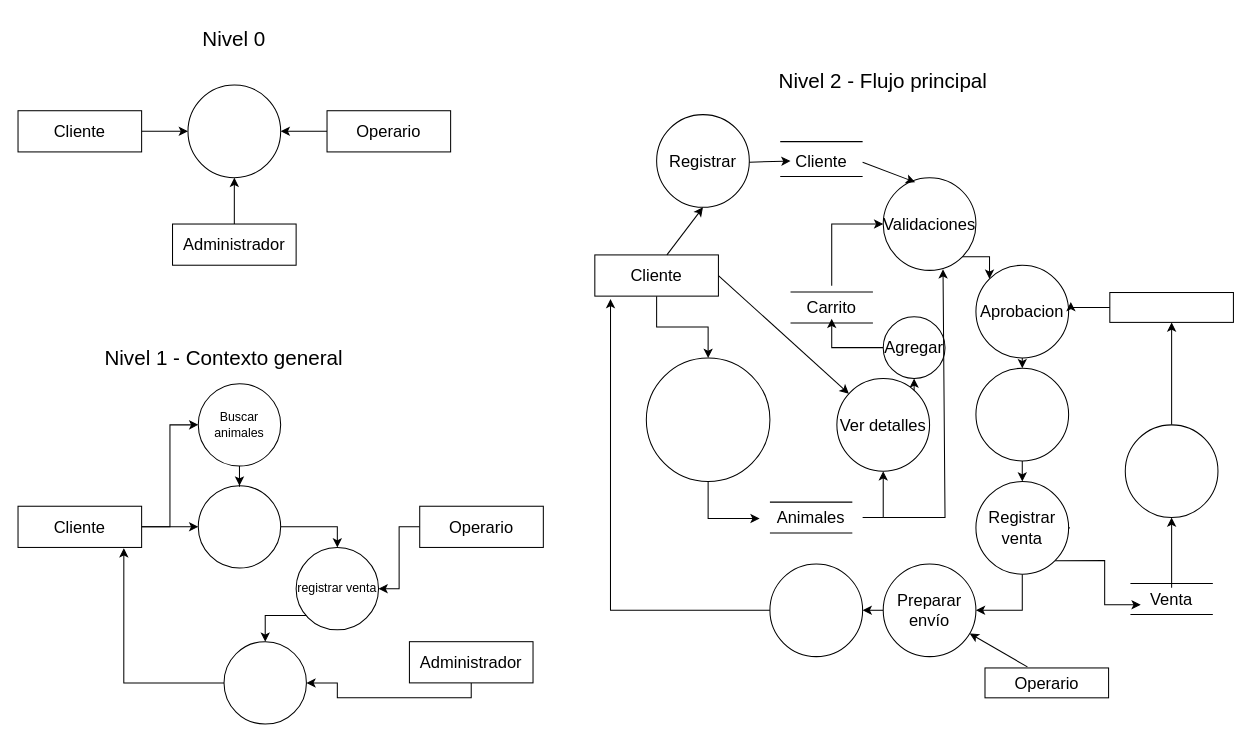
Some shapes in this 1251 by 742 pixel diagram are drawn without their labels. Each missing label, with the centre of its shape:
Administracion: (x=1171, y=306)
Comprar: (x=239, y=526)
Gestión catálogo: (x=707, y=419)
Gestión envío: (x=816, y=610)
Invorme de venta: (x=1171, y=471)
Pagar: (x=264, y=682)
Pago: (x=1022, y=414)
Venta de animales: (x=234, y=131)
